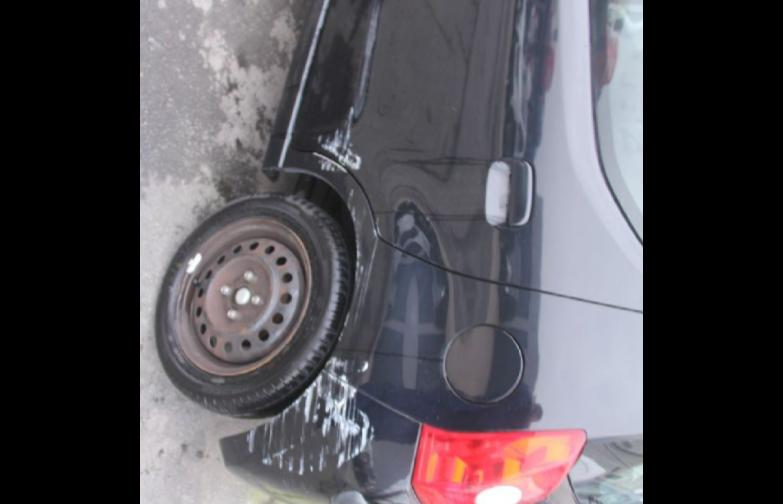Corrosion: (174, 216, 312, 374)
Scratch: (280, 372, 322, 444), (322, 372, 360, 446), (354, 228, 378, 328), (338, 260, 364, 340), (336, 106, 362, 168), (336, 396, 352, 466), (320, 128, 344, 158), (312, 152, 348, 172), (334, 382, 342, 454), (348, 392, 356, 460), (358, 408, 370, 450), (354, 208, 364, 256), (324, 356, 348, 374), (246, 428, 254, 454), (268, 416, 274, 450), (318, 446, 326, 470), (346, 188, 354, 208), (272, 448, 288, 458), (356, 360, 368, 372), (262, 422, 266, 456), (298, 452, 304, 474), (262, 452, 272, 464), (350, 204, 356, 222), (278, 440, 282, 466), (350, 444, 358, 456), (376, 216, 380, 236), (370, 426, 374, 440), (288, 456, 292, 470), (318, 134, 322, 142), (326, 444, 330, 452), (290, 444, 294, 448), (310, 464, 312, 470)
